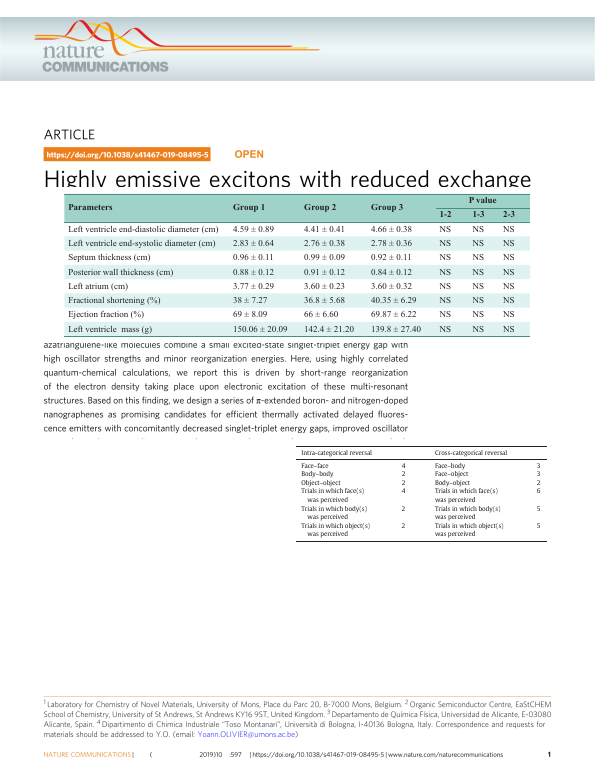borderless: (63, 192, 530, 336), (295, 444, 547, 541)
cell: (66, 225, 219, 235), (66, 239, 216, 249), (300, 522, 371, 539), (434, 522, 505, 539), (300, 504, 368, 521), (434, 504, 502, 521), (300, 487, 365, 504), (434, 487, 499, 504), (66, 268, 174, 278), (66, 296, 161, 306), (66, 253, 151, 264), (66, 325, 152, 335), (66, 310, 144, 321), (66, 282, 128, 292), (434, 449, 508, 457), (300, 449, 373, 457), (232, 325, 288, 335), (370, 310, 417, 321), (303, 325, 354, 335), (370, 325, 421, 335), (370, 296, 417, 306), (232, 253, 274, 264), (303, 253, 345, 264), (370, 253, 412, 264), (67, 204, 113, 214), (232, 225, 274, 235), (303, 225, 345, 235), (370, 225, 412, 235), (232, 239, 274, 249), (303, 239, 345, 249), (370, 239, 412, 249), (232, 268, 274, 278), (303, 268, 345, 278), (370, 268, 412, 278), (232, 282, 274, 292), (303, 282, 345, 292), (370, 282, 412, 292), (303, 296, 345, 306), (232, 310, 268, 321), (303, 310, 339, 321), (232, 296, 268, 306), (369, 204, 404, 214), (232, 204, 266, 214), (303, 204, 337, 214), (300, 479, 342, 487), (300, 470, 335, 479), (434, 470, 469, 479), (467, 197, 497, 207), (434, 479, 471, 487), (434, 462, 466, 470), (300, 462, 330, 470), (438, 253, 452, 264), (471, 253, 485, 264), (438, 310, 452, 321), (471, 310, 485, 321), (502, 253, 515, 264), (502, 310, 515, 321), (438, 211, 452, 221), (471, 211, 485, 221), (501, 211, 515, 221), (438, 225, 452, 235), (471, 225, 485, 235), (438, 239, 452, 249), (471, 239, 485, 249), (438, 268, 452, 278), (471, 268, 485, 278), (438, 282, 452, 292), (471, 282, 485, 292), (438, 296, 452, 306), (471, 296, 485, 306), (438, 325, 452, 335), (471, 325, 485, 335), (502, 225, 515, 235), (502, 239, 515, 249), (502, 268, 515, 278), (502, 282, 515, 292), (502, 296, 515, 306), (502, 325, 515, 335), (536, 470, 542, 479), (536, 487, 542, 496), (536, 504, 542, 513), (536, 462, 542, 470), (536, 479, 542, 487), (536, 522, 542, 530), (401, 470, 406, 479), (401, 487, 406, 496), (401, 504, 406, 513), (401, 462, 406, 470), (401, 479, 406, 487), (401, 522, 406, 530)
